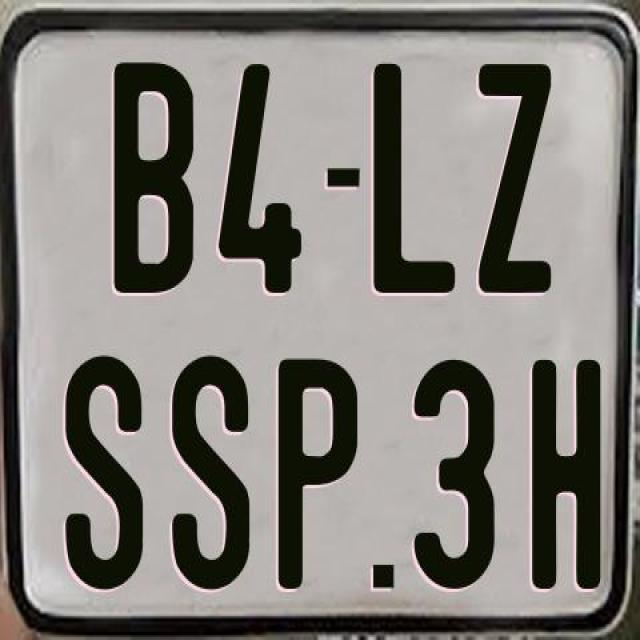3: (414, 360, 502, 597)
4: (216, 59, 301, 296)
B: (114, 59, 198, 299)
H: (529, 358, 600, 590)
L: (370, 64, 458, 298)
P: (274, 358, 362, 590)
S: (61, 354, 140, 594), (172, 354, 252, 588)
Z: (478, 64, 558, 299)
